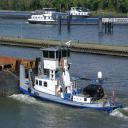tugboat: (20, 41, 124, 116)
